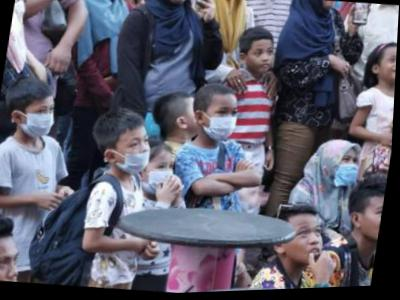NONE: (291, 223, 330, 269), (1, 244, 27, 284), (247, 44, 276, 78), (382, 55, 397, 89)
OK: (205, 102, 241, 145), (144, 158, 180, 199), (26, 102, 58, 141), (336, 155, 363, 192)
WRONG: (115, 133, 155, 178)
